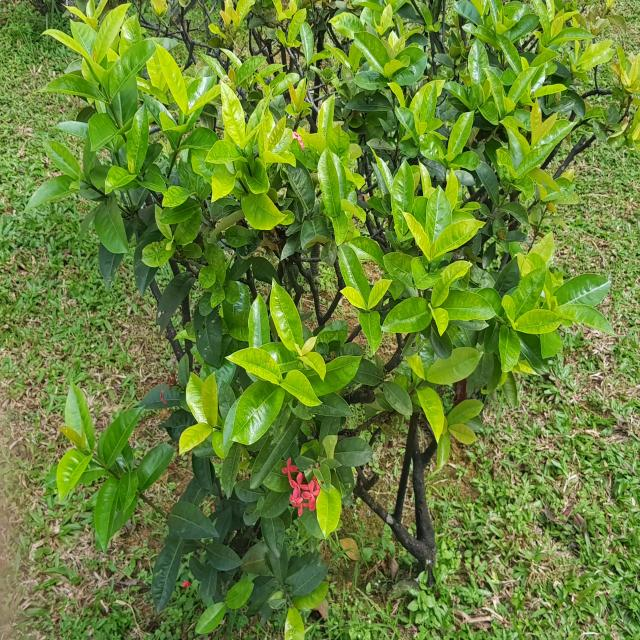Chinese-Ixora: (277, 454, 322, 519), (291, 128, 305, 151)
